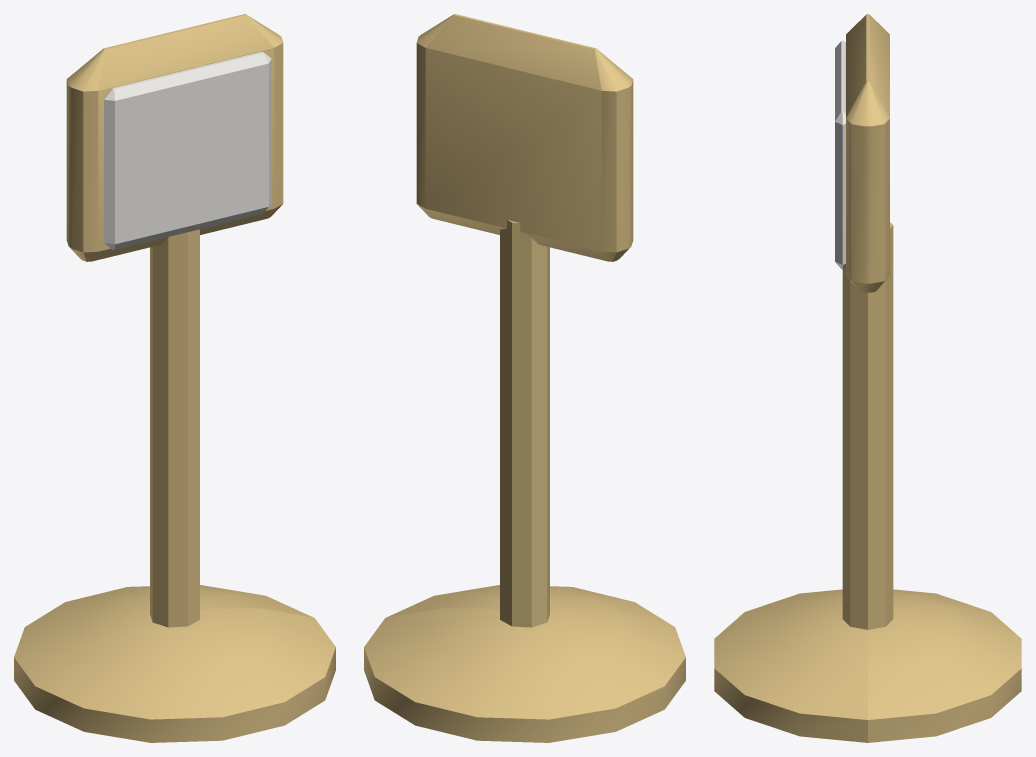
File: restaurant-kitchen-and-dining-table-number-stand-2605cdaf__16523.glb
3 views of the same model, side by side, from view 1: azimuth 30°, elevation 25°; view 2: azimuth 150°, elevation 25°; view 3: azimuth 270°, elevation 25° (orthographic). The views are drawn at different scales.
Parts seen in each view (by area): view 1: table-number-stand; view 2: table-number-stand; view 3: table-number-stand.
Boxes of the visible parts, left/top/right/bottom form: table-number-stand: left=14, top=14, right=335, bottom=742; table-number-stand: left=364, top=14, right=685, bottom=742; table-number-stand: left=714, top=14, right=1021, bottom=742.
Bounding box in the file's own units: 0.1 × 0.22 × 0.0975.
